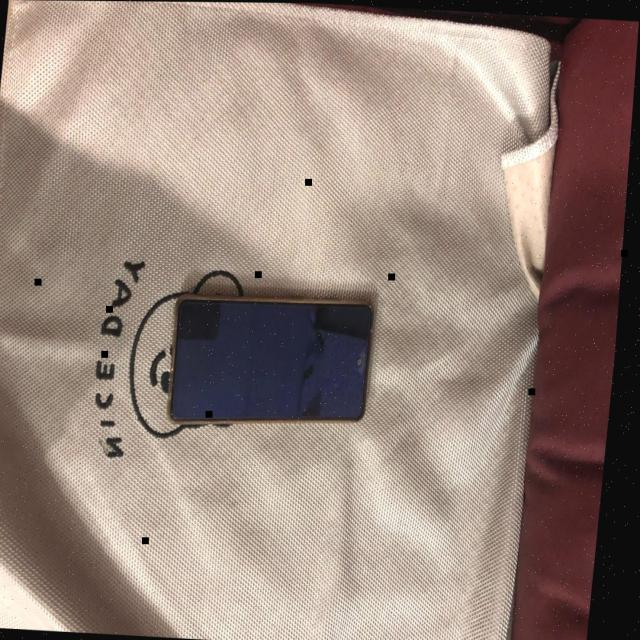Smartphone: (167, 293, 385, 450)
